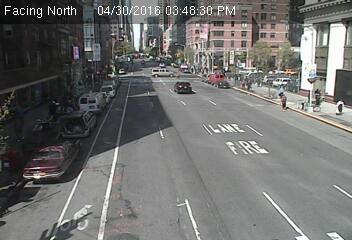neg: (110, 111, 126, 132), (105, 156, 119, 175), (140, 127, 153, 145), (155, 77, 167, 93), (40, 104, 51, 120), (178, 80, 189, 94), (47, 144, 56, 156), (168, 179, 176, 190), (72, 149, 80, 159)
pos: (328, 95, 349, 122), (309, 85, 328, 110), (273, 90, 290, 113)
